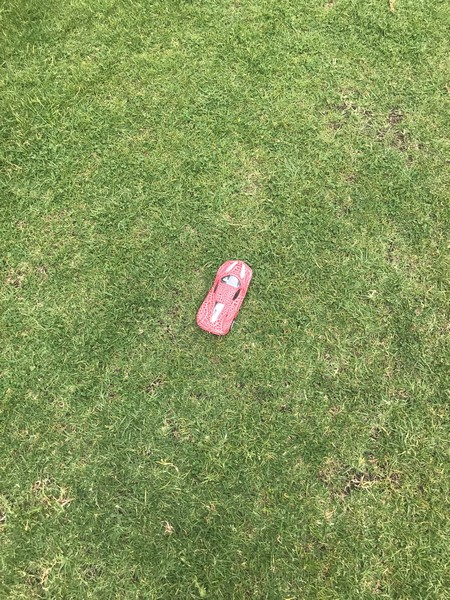RC: (195, 259, 253, 338)
